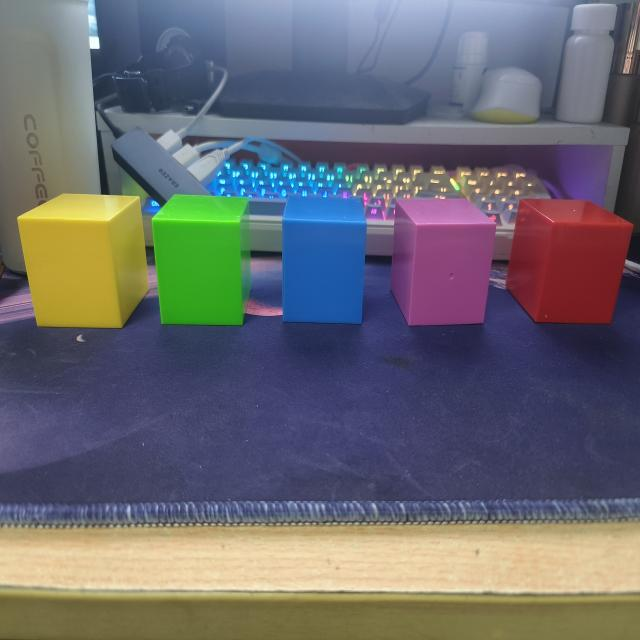blue: (281, 197, 367, 327)
green: (151, 193, 249, 328)
pink: (391, 198, 497, 330)
red: (506, 199, 632, 327)
yellow: (16, 193, 152, 333)
